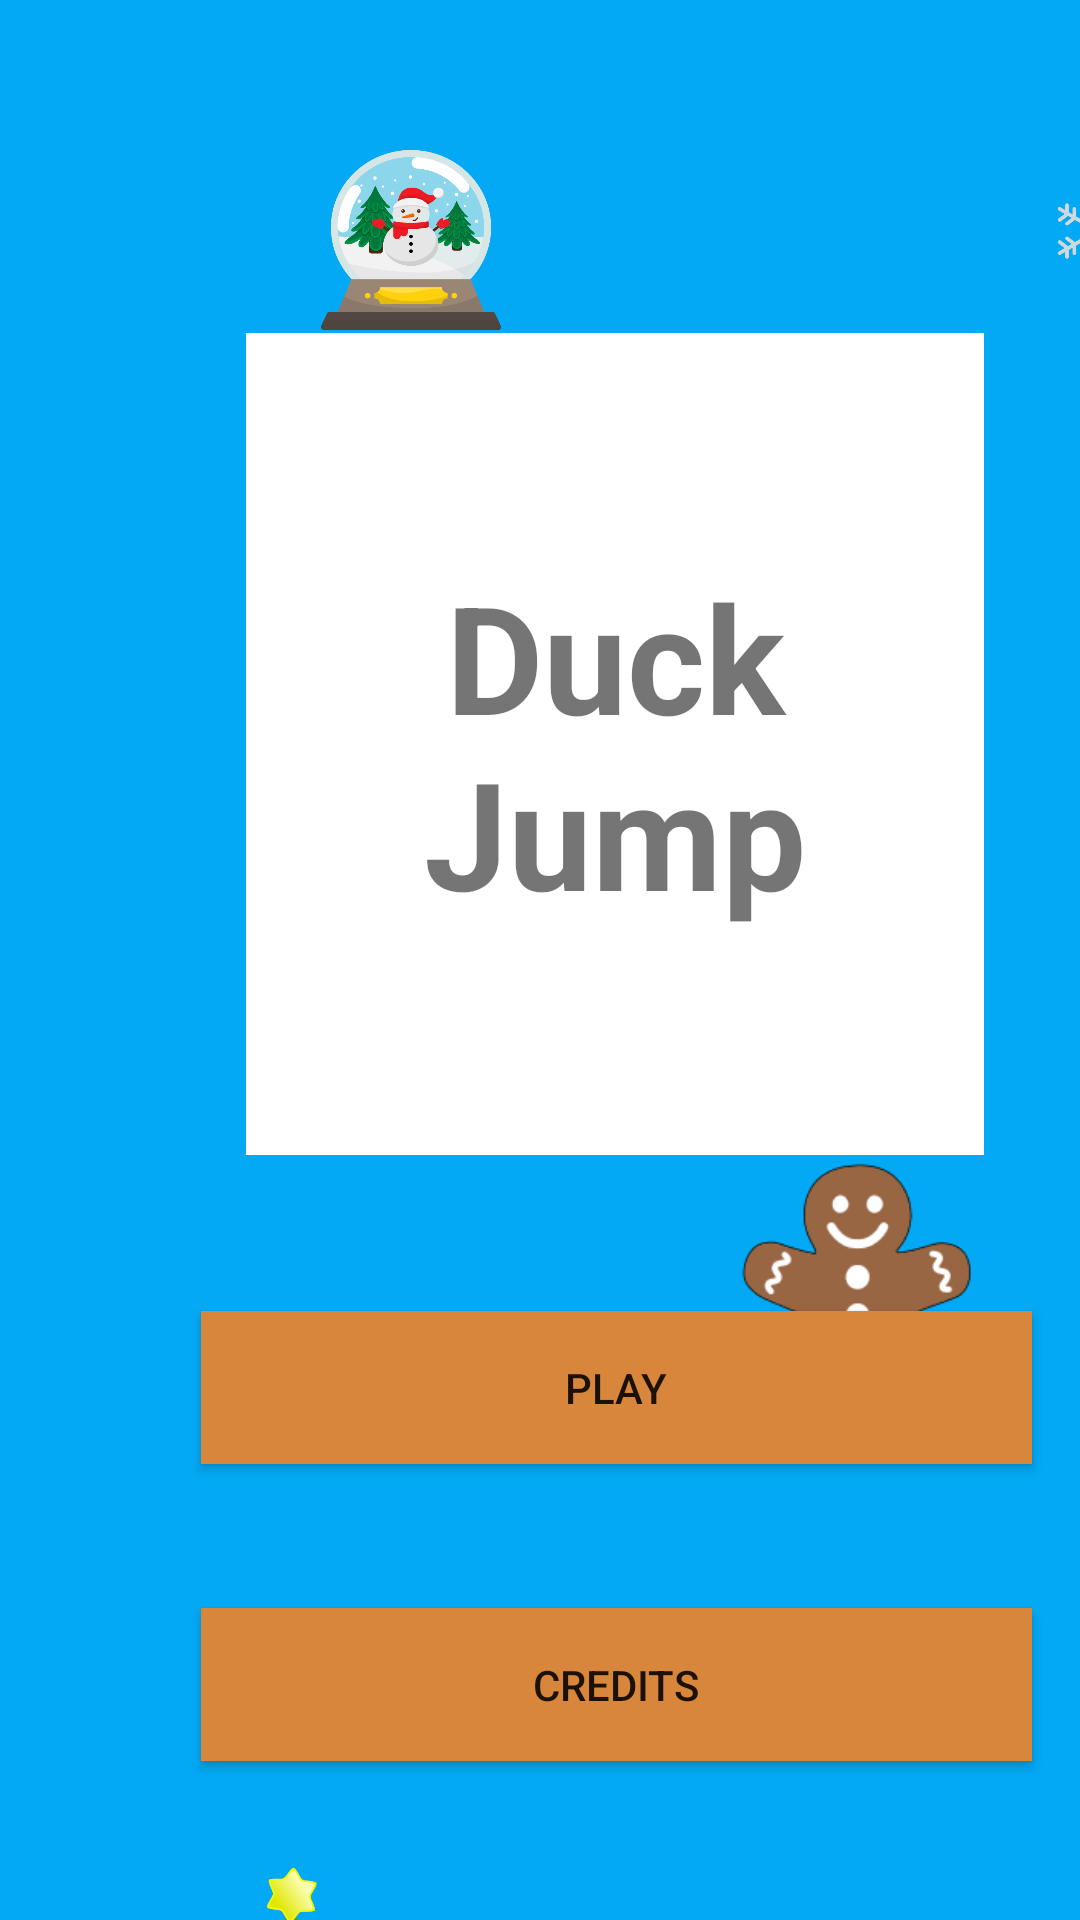

Icon click points for this 1080 × 1920 phone screenshot, format [x,y]:
snowglobe: [411,240]
